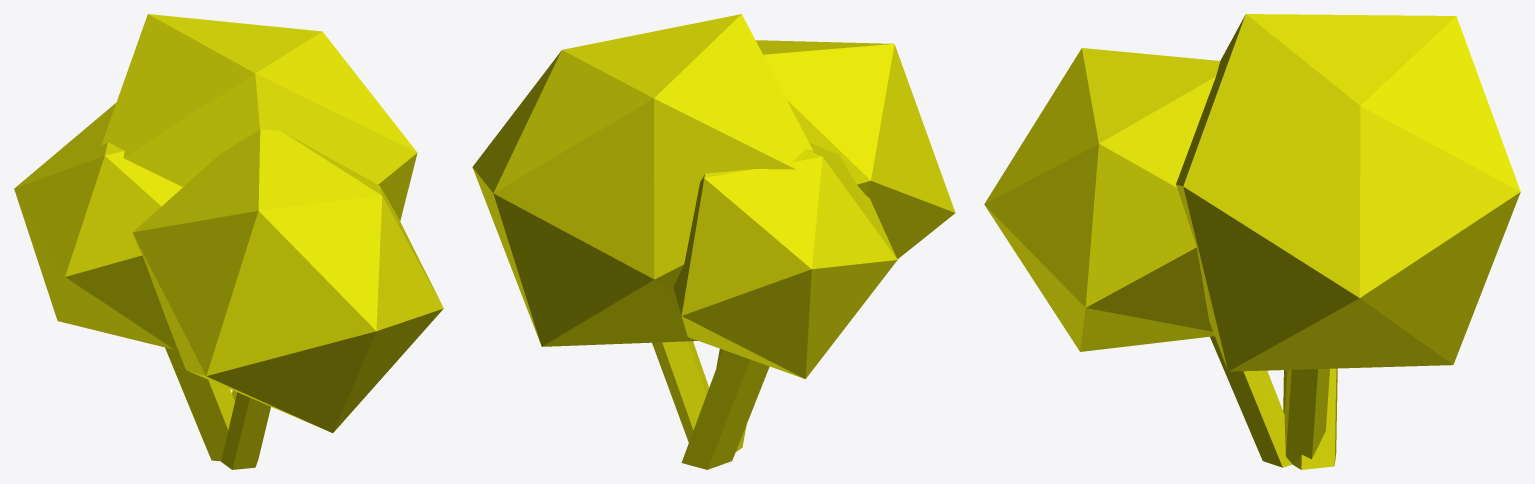
Rendered from Bush 1.fbx.
3 renders of one model, left to right at view 1: azimuth 30°, elevation 25°; view 2: azimuth 150°, elevation 25°; view 3: azimuth 270°, elevation 25°, orthographic. The views are drawn at different scales.
Visible parts, largest first — view 1: Bushes2:sphere_object1, Bushes2:sphere_object2, Bushes2:sphere_object3, Bushes2:pCylinder2, Bushes2:pCylinder1; view 2: Bushes2:sphere_object2, Bushes2:sphere_object3, Bushes2:sphere_object1, Bushes2:pCylinder2, Bushes2:pCylinder3; view 3: Bushes2:sphere_object2, Bushes2:sphere_object1, Bushes2:pCylinder1, Bushes2:pCylinder3, Bushes2:pCylinder2.
Part boxes in pixels (x1=…): Bushes2:sphere_object1: x1=132, y1=129, x2=443, y2=432; Bushes2:sphere_object2: x1=101, y1=14, x2=417, y2=220; Bushes2:sphere_object3: x1=14, y1=102, x2=182, y2=349; Bushes2:pCylinder2: x1=165, y1=347, x2=234, y2=461; Bushes2:pCylinder1: x1=221, y1=392, x2=270, y2=469; Bushes2:sphere_object2: x1=472, y1=14, x2=813, y2=346; Bushes2:sphere_object3: x1=673, y1=143, x2=897, y2=378; Bushes2:sphere_object1: x1=755, y1=40, x2=955, y2=259; Bushes2:pCylinder2: x1=681, y1=350, x2=769, y2=469; Bushes2:pCylinder3: x1=652, y1=341, x2=708, y2=442; Bushes2:sphere_object2: x1=1176, y1=14, x2=1520, y2=371; Bushes2:sphere_object1: x1=984, y1=48, x2=1220, y2=351; Bushes2:pCylinder1: x1=1210, y1=336, x2=1292, y2=467; Bushes2:pCylinder3: x1=1284, y1=368, x2=1329, y2=464; Bushes2:pCylinder2: x1=1283, y1=368, x2=1337, y2=469.
Bounding box in the file's own units: 6.58 × 6.76 × 7.41.
